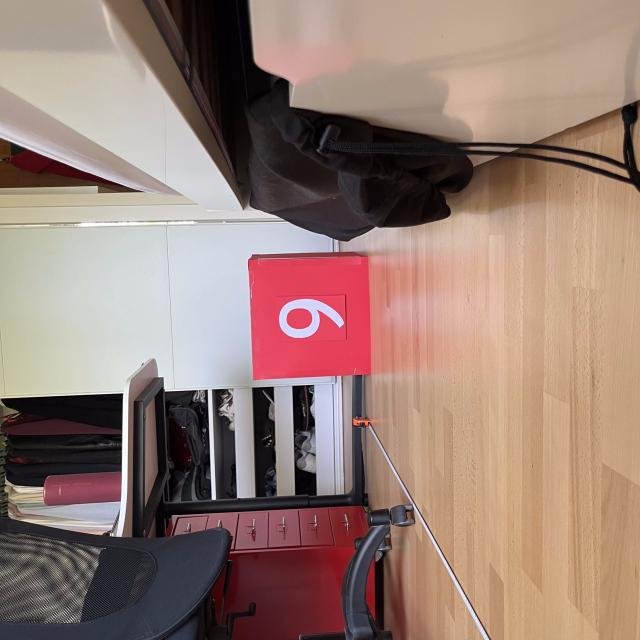box: (243, 248, 375, 382)
